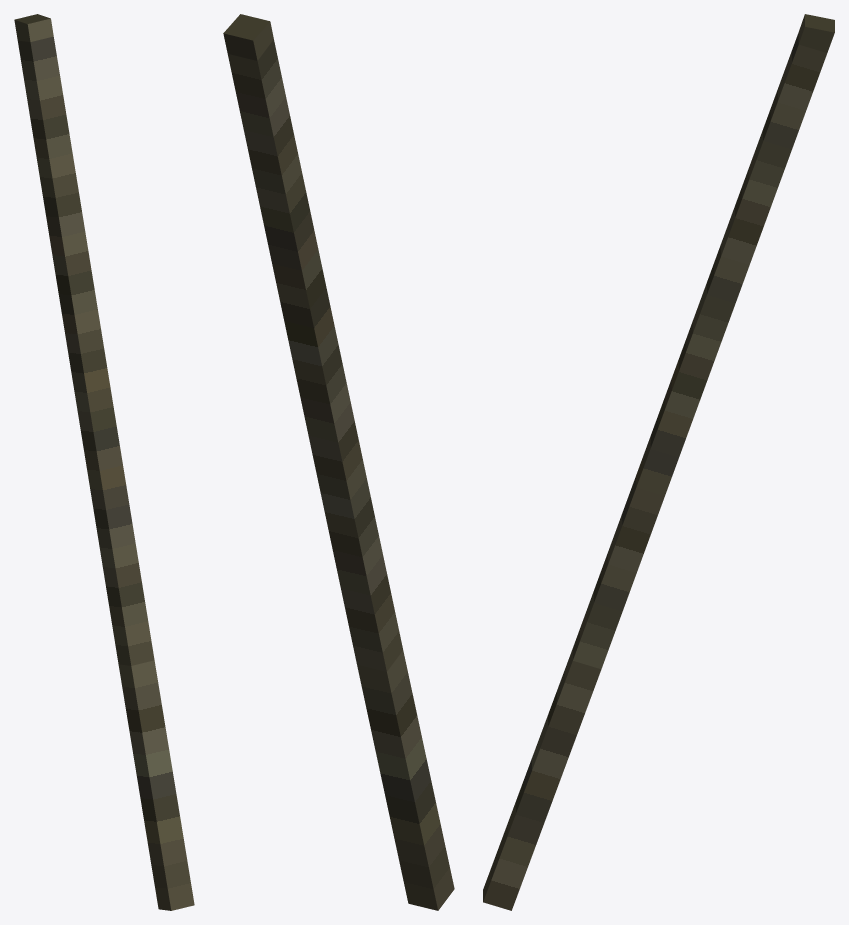
File: rope_3tall.obj
The picture shows the model from 3 angles, left to right: view 1: azimuth 30°, elevation 25°; view 2: azimuth 150°, elevation 25°; view 3: azimuth 270°, elevation 25°; orthographic projection. The views are drawn at different scales.
Parts seen in each view (by area): view 1: cube; view 2: cube; view 3: cube.
Boxes of the visible parts, bbox=[...] form: cube: bbox=[14, 14, 194, 910]; cube: bbox=[223, 14, 454, 910]; cube: bbox=[483, 14, 834, 910].
Size of the model in its own units: 0.0938 by 3.03 by 1.09.
